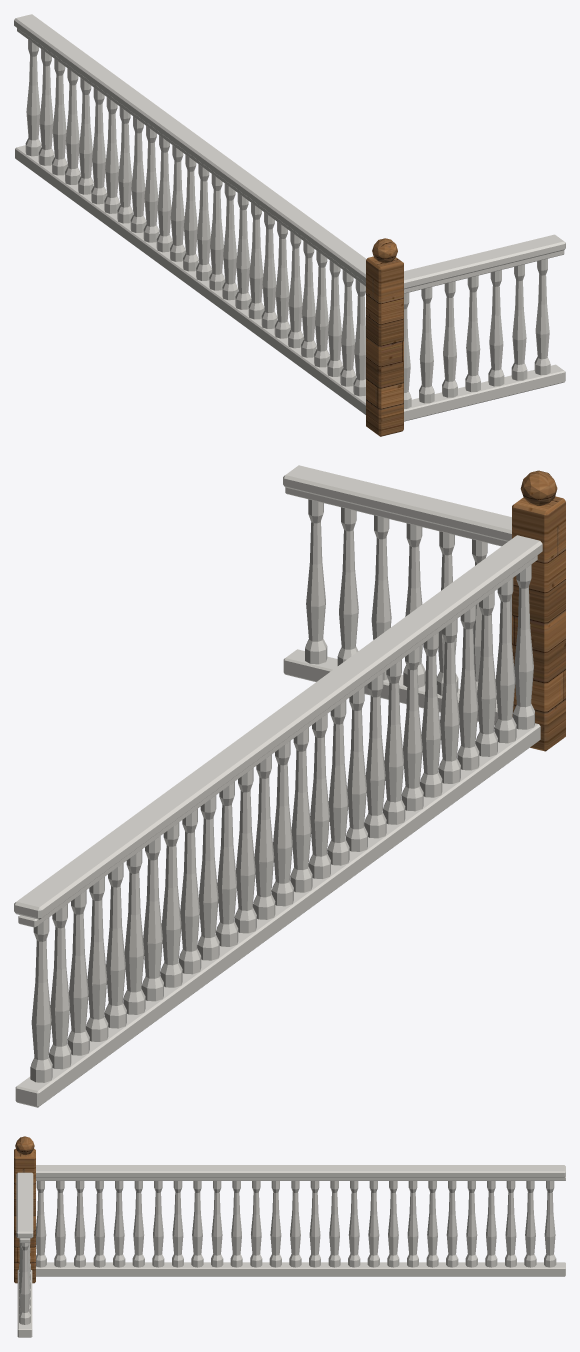
Rendered from stair_rail.glb.
The picture shows the model from 3 angles, top to bottom: view 1: azimuth 30°, elevation 25°; view 2: azimuth 150°, elevation 25°; view 3: azimuth 270°, elevation 25°; orthographic projection. The views are drawn at different scales.
Visible parts, largest first — view 1: stair_rail_trim, stair_rail_oak; view 2: stair_rail_trim, stair_rail_oak; view 3: stair_rail_trim, stair_rail_oak.
Boxes of the visible parts, x1=… form: stair_rail_trim: x1=14, y1=14, x2=565, y2=421; stair_rail_oak: x1=366, y1=238, x2=403, y2=436; stair_rail_trim: x1=14, y1=465, x2=542, y2=1107; stair_rail_oak: x1=512, y1=470, x2=565, y2=751; stair_rail_trim: x1=16, y1=1165, x2=565, y2=1337; stair_rail_oak: x1=14, y1=1136, x2=35, y2=1283.
Size of the model in its own units: 1.34 by 1.29 by 4.54.
2 materials, 1 textured.
